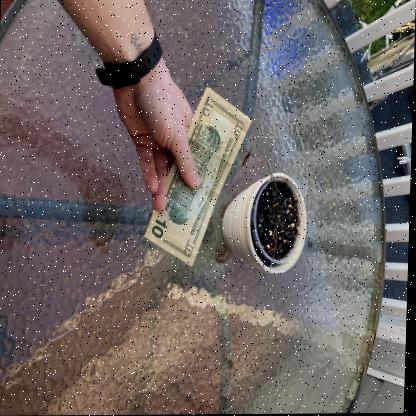ten-back: (139, 86, 253, 268)
